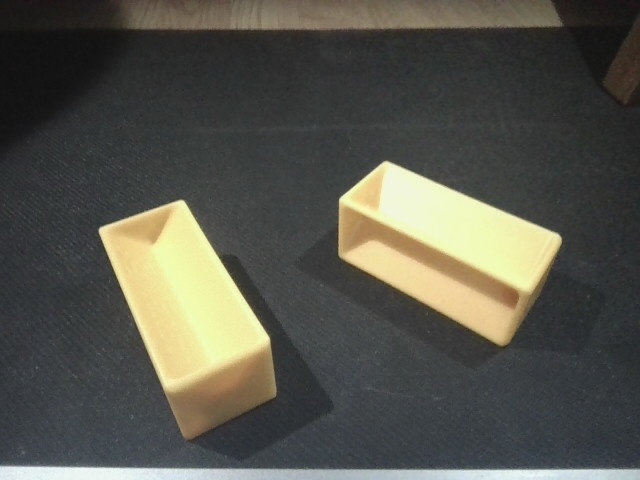YellowSample: (96, 198, 282, 442), (335, 157, 566, 349)
